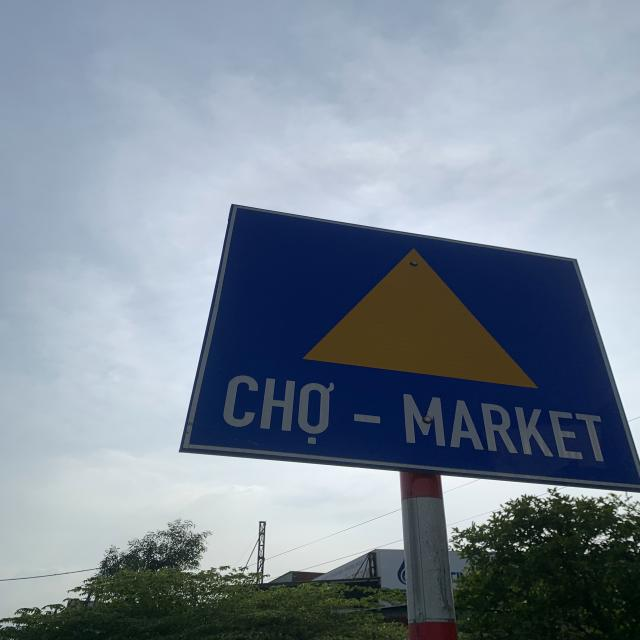Cho_Quay_Xe: (183, 203, 640, 491)
